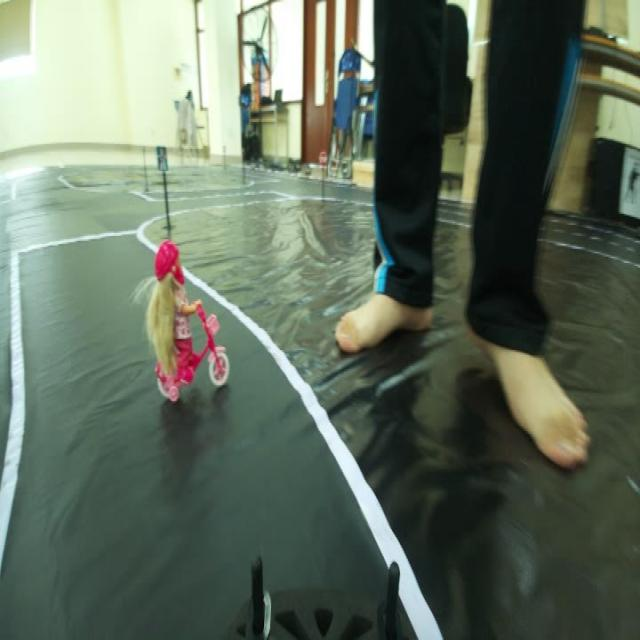pedestrian: (140, 238, 231, 406)
